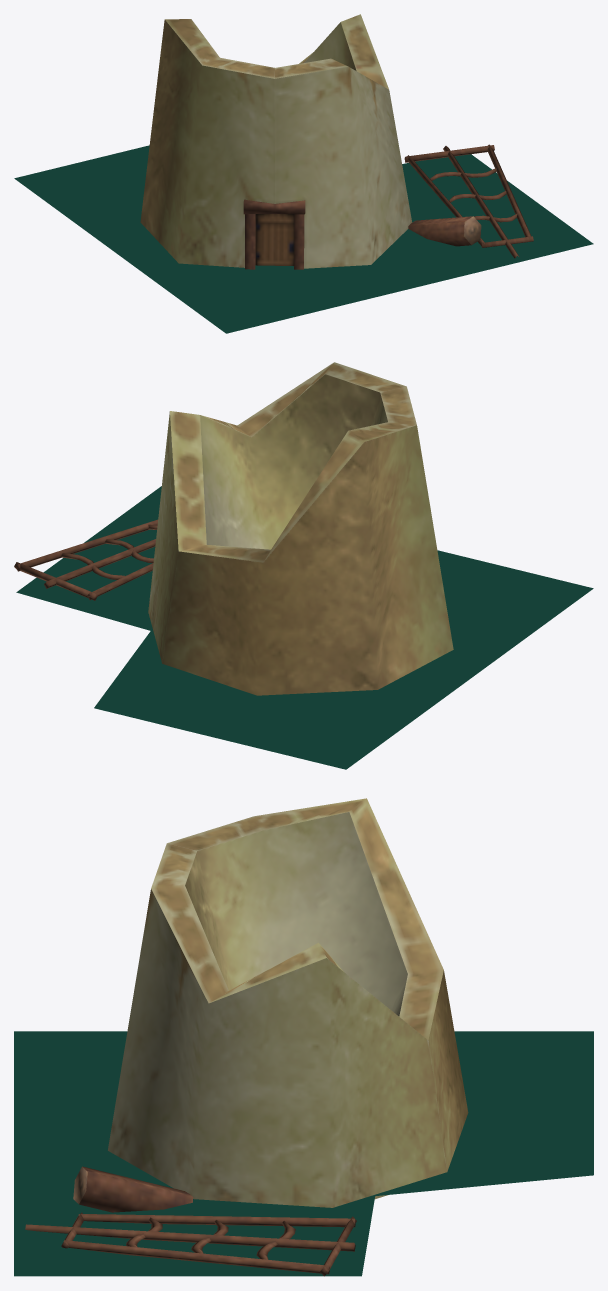
The model's file is Windmill.FBX.
3 renders of one model, top to bottom at view 1: azimuth 30°, elevation 25°; view 2: azimuth 150°, elevation 25°; view 3: azimuth 270°, elevation 25°, orthographic. The views are drawn at different scales.
Parts seen in each view (by area): view 1: Windmill, WindmillShadow; view 2: Windmill, WindmillShadow; view 3: Windmill, WindmillShadow.
Part boxes in pixels (x1,y1,x2,y2): Windmill: (140,14,533,269); WindmillShadow: (14,145,593,333); Windmill: (14,362,453,695); WindmillShadow: (16,486,593,769); Windmill: (25,798,468,1276); WindmillShadow: (14,1031,593,1276).
Bounding box in the file's own units: 561 × 366 × 540.
